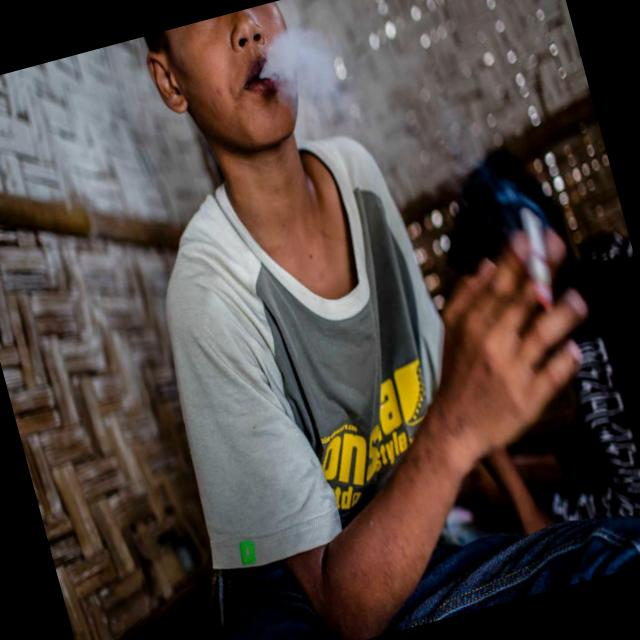smoke: (480, 198, 585, 344)
